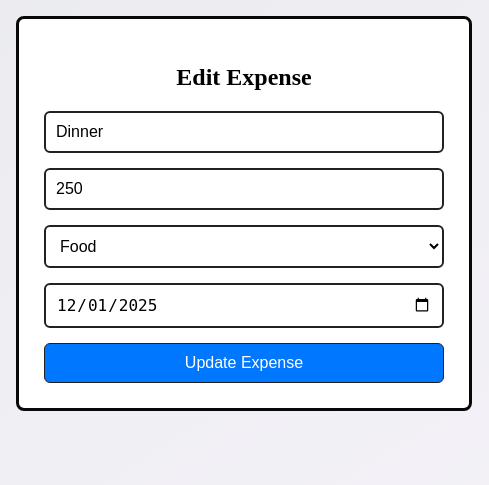
it: EditExpense Component › shows custom category input when "Other" is selected
Select "Other" in the dropdown at (244, 246), box 44,225 -> 444,268
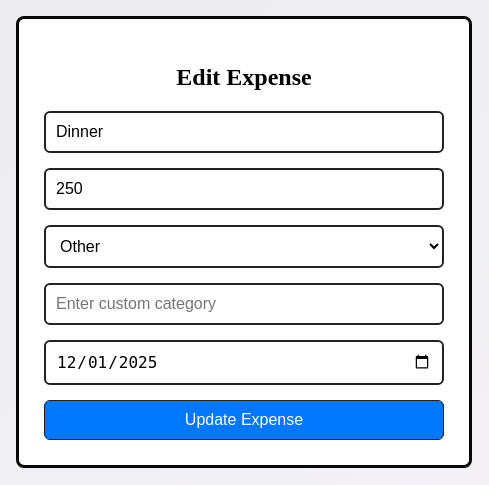
Expected: the field with placeholder "Enter custom category" is shown, 44,283 -> 444,325
